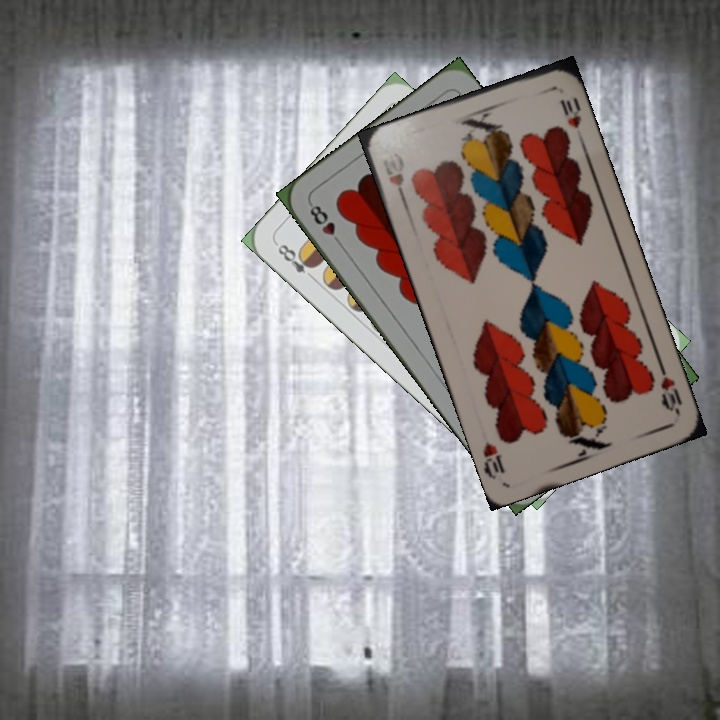E8: (273, 240, 319, 284)
H10: (654, 359, 685, 417), (378, 153, 410, 206)
H8: (305, 199, 346, 250)
